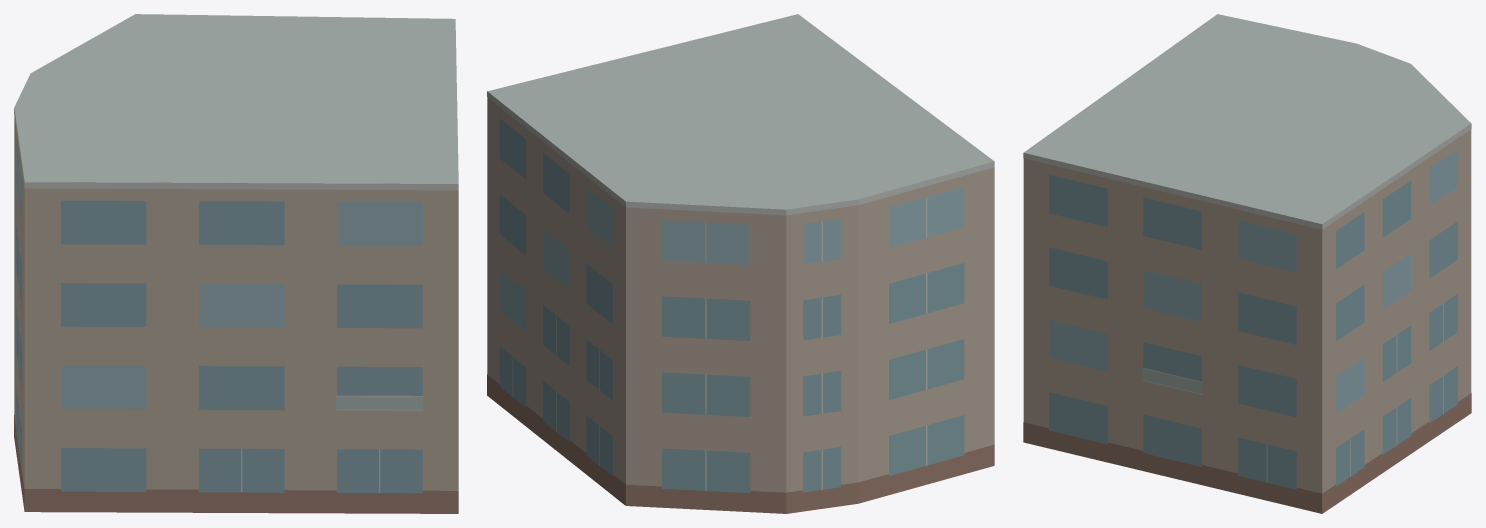
Rendered from survey-upis-32657092.glb.
3 renders of one model, left to right at view 1: azimuth 30°, elevation 25°; view 2: azimuth 150°, elevation 25°; view 3: azimuth 270°, elevation 25°, orthographic. The views are drawn at different scales.
Visible parts, largest first — view 1: survey-upis-32657092.tmp; view 2: survey-upis-32657092.tmp; view 3: survey-upis-32657092.tmp.
Part boxes in pixels (x1,y1,x2,y2): survey-upis-32657092.tmp: (14,14,458,513); survey-upis-32657092.tmp: (487,14,994,513); survey-upis-32657092.tmp: (1023,14,1471,513).
Bounding box in the file's own units: 19.93 × 12.8 × 17.95.
